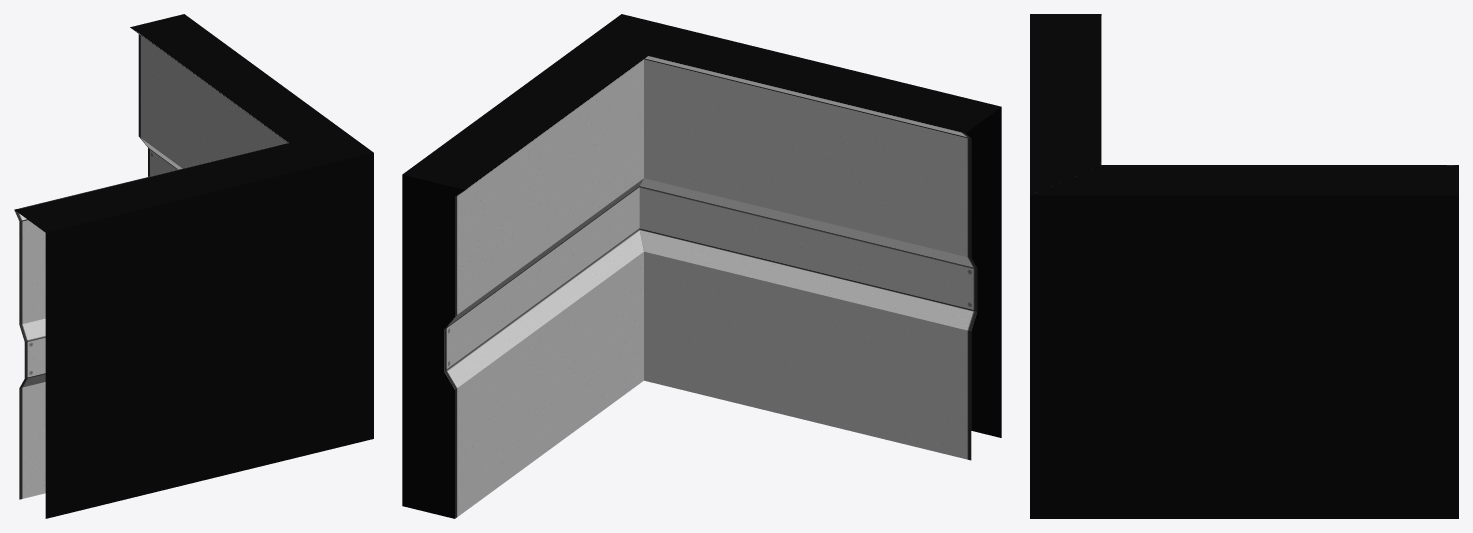
Rendered from corner-1.fbx.
3 renders of one model, left to right at view 1: azimuth 30°, elevation 25°; view 2: azimuth 150°, elevation 25°; view 3: azimuth 270°, elevation 25°, orthographic. The views are drawn at different scales.
Parts seen in each view (by area): view 1: pCube39; view 2: pCube39; view 3: pCube39.
Boxes of the visible parts, x1,y1,x2,y2 form: pCube39: (14, 14, 373, 518); pCube39: (402, 14, 1001, 518); pCube39: (1030, 14, 1458, 518).
Bounding box in the file's own units: 3.6 × 3 × 3.6.
Materials: 1 (1 with a texture image).
